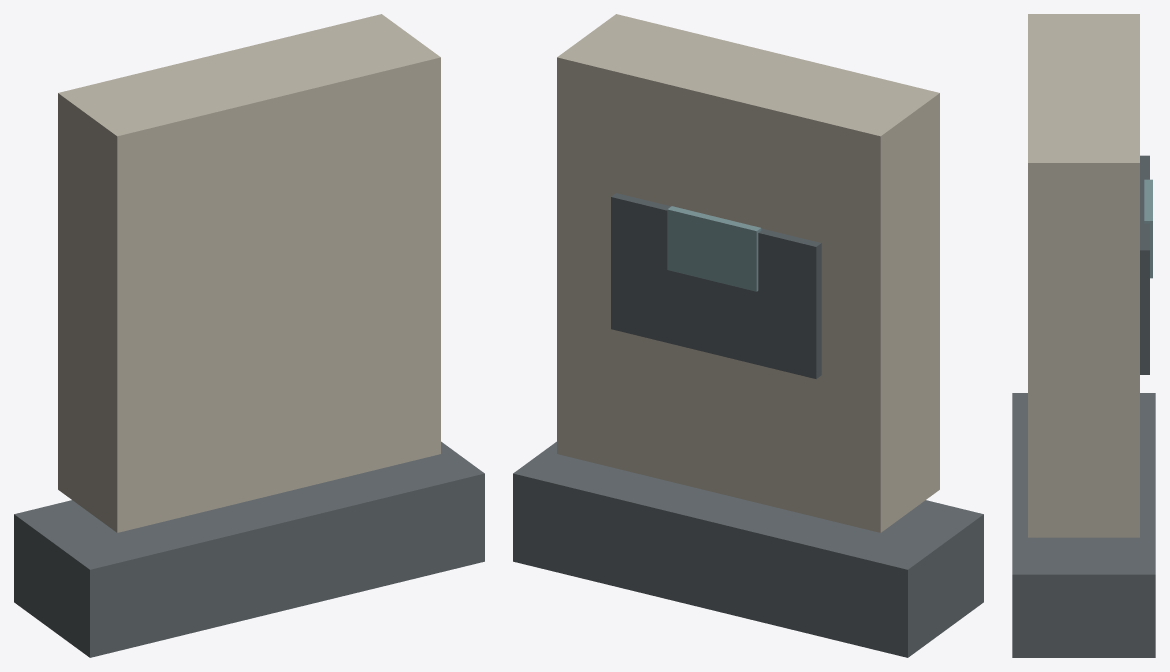
File: iz3_health_shelf_01.glb
3 renders of one model, left to right at view 1: azimuth 30°, elevation 25°; view 2: azimuth 150°, elevation 25°; view 3: azimuth 270°, elevation 25°, orthographic. The views are drawn at different scales.
Parts seen in each view (by area): view 1: cabinet, base; view 2: cabinet, base, panel, display; view 3: cabinet, base, panel, display.
Part boxes in pixels (bbox=[...]): cabinet: bbox=[58, 14, 440, 532]; base: bbox=[14, 441, 484, 657]; cabinet: bbox=[557, 14, 939, 532]; base: bbox=[513, 441, 983, 657]; panel: bbox=[611, 193, 821, 378]; display: bbox=[667, 206, 761, 291]; cabinet: bbox=[1028, 14, 1139, 537]; base: bbox=[1012, 393, 1155, 657]; panel: bbox=[1140, 155, 1149, 374]; display: bbox=[1144, 179, 1152, 278].
Size of the model in its own units: 1.5 by 1.84 by 0.5.
